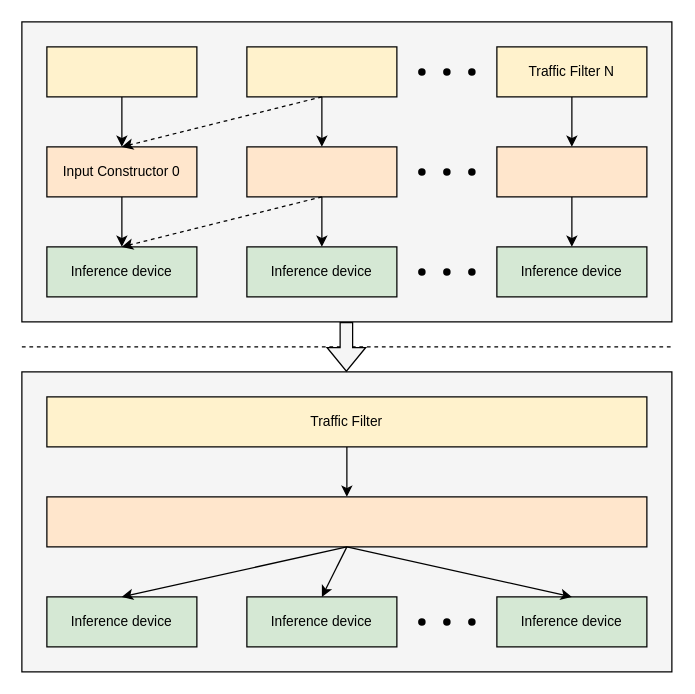
Image size: 695x694. Some labels were removed from this diagram. The shapes that lost their labels are listed below. From the top down, each one's centre as x and y in pixels, then its label:
point 121,71: Traffic Filter 0
point 321,71: Traffic Filter 1
point 321,171: Input Constructor 1
point 571,171: Input Constructor N
point 346,521: Input Constructor
